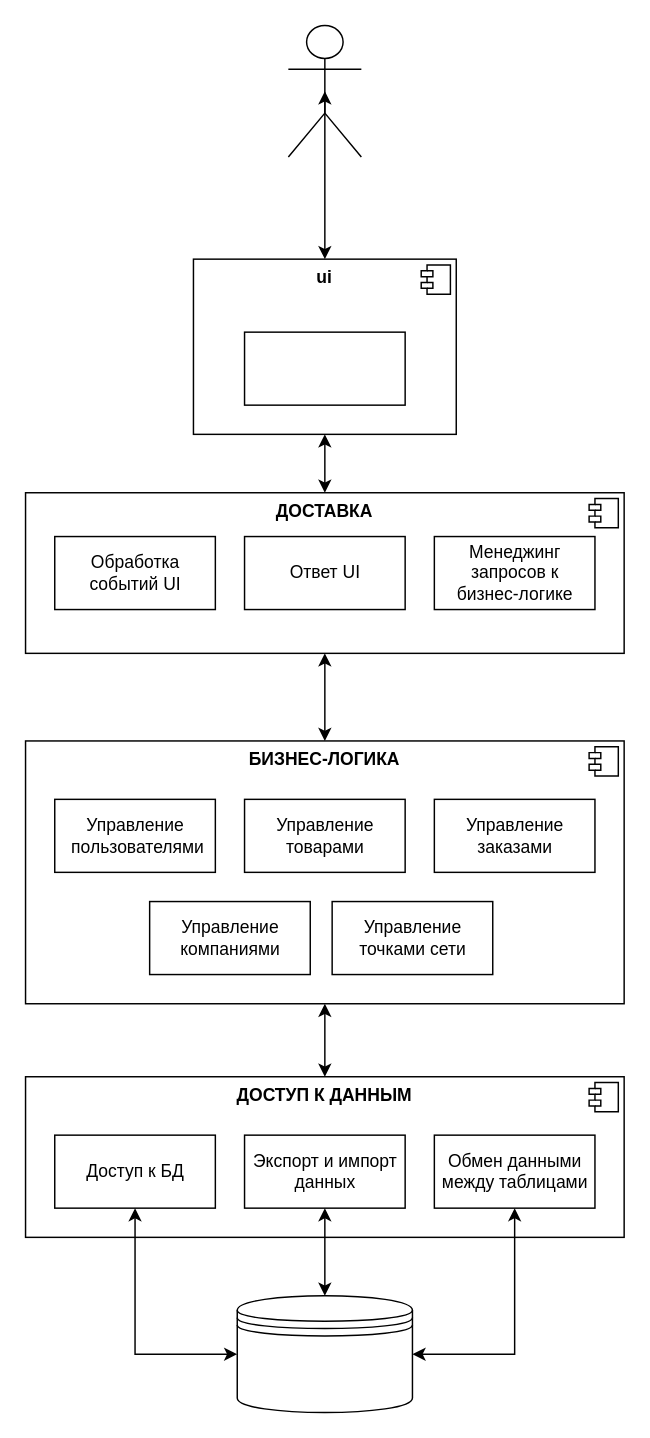
Image size: 650x1438. Some labels were removed from this diagram. Each missing label, with the centre of its shape:
"Web / Console" belongs at (324,368).
"БД" belongs at (324,1353).
"ПОЛЬЗОВАТЕЛЬ" belongs at (324,90).
